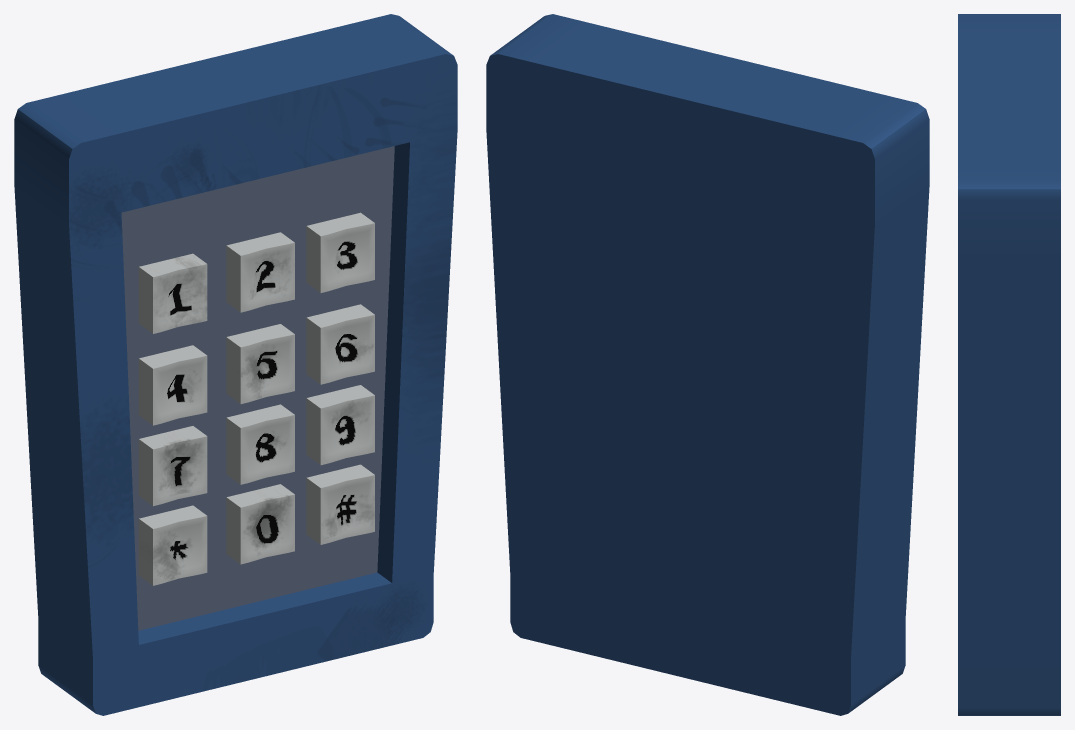
Rendered from M_Security_Pad.fbx.
3 views of the same model, side by side, from view 1: azimuth 30°, elevation 25°; view 2: azimuth 150°, elevation 25°; view 3: azimuth 270°, elevation 25° (orthographic). The views are drawn at different scales.
Parts seen in each view (by area): view 1: pasted__polySurface17; view 2: pasted__polySurface17; view 3: pasted__polySurface17.
Part boxes in pixels (x1,y1,x2,y2): pasted__polySurface17: [14, 14, 457, 715]; pasted__polySurface17: [486, 14, 929, 715]; pasted__polySurface17: [958, 14, 1060, 715].
Bounding box in the file's own units: 42.89 × 61.01 × 10.45.
